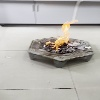fire: (45, 19, 80, 52)
